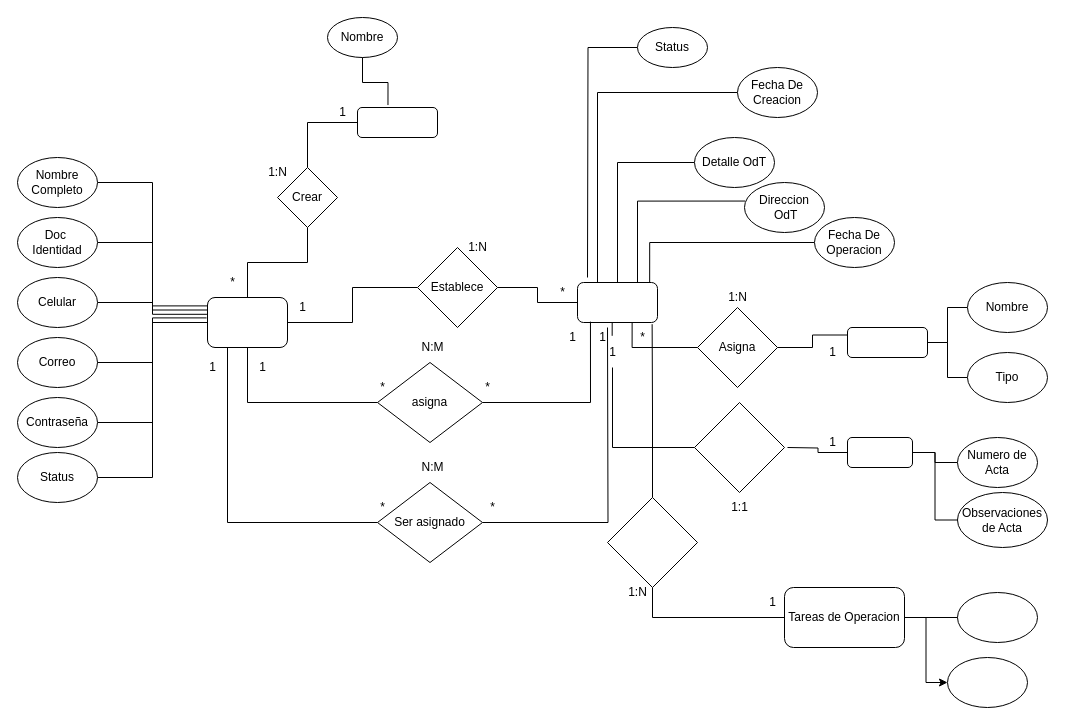
The diagram is 1065 pixels wide and 725 high, and some of its shapes have lost their labels. Here are the shapes that lost their labels. From the top down, the centre of each, then its label:
At point 397,122: "Roles".
At point 247,322: "Usuario".
At point 617,302: "Ordenes de Trabajo".
At point 887,342: "Insumos".
At point 739,447: "Genera".
At point 879,452: "Acta".
At point 652,542: "Contiene".
At point 997,617: "Estado".
At point 987,682: "Tarea".
